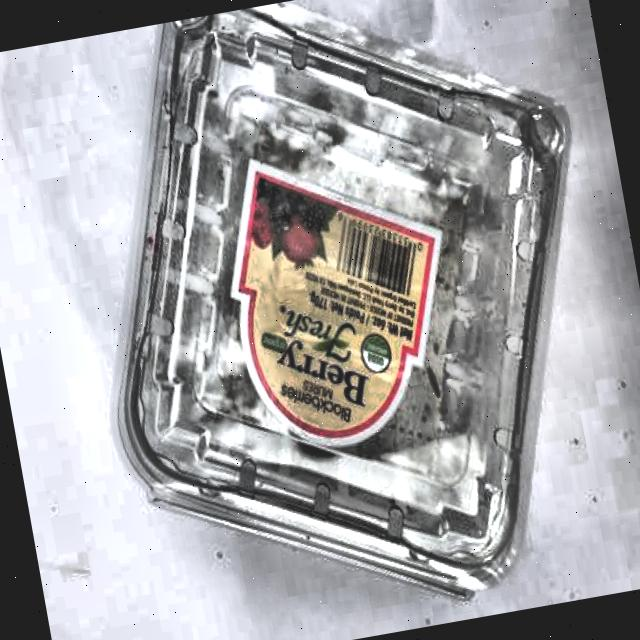plastic: (52, 0, 640, 637)
